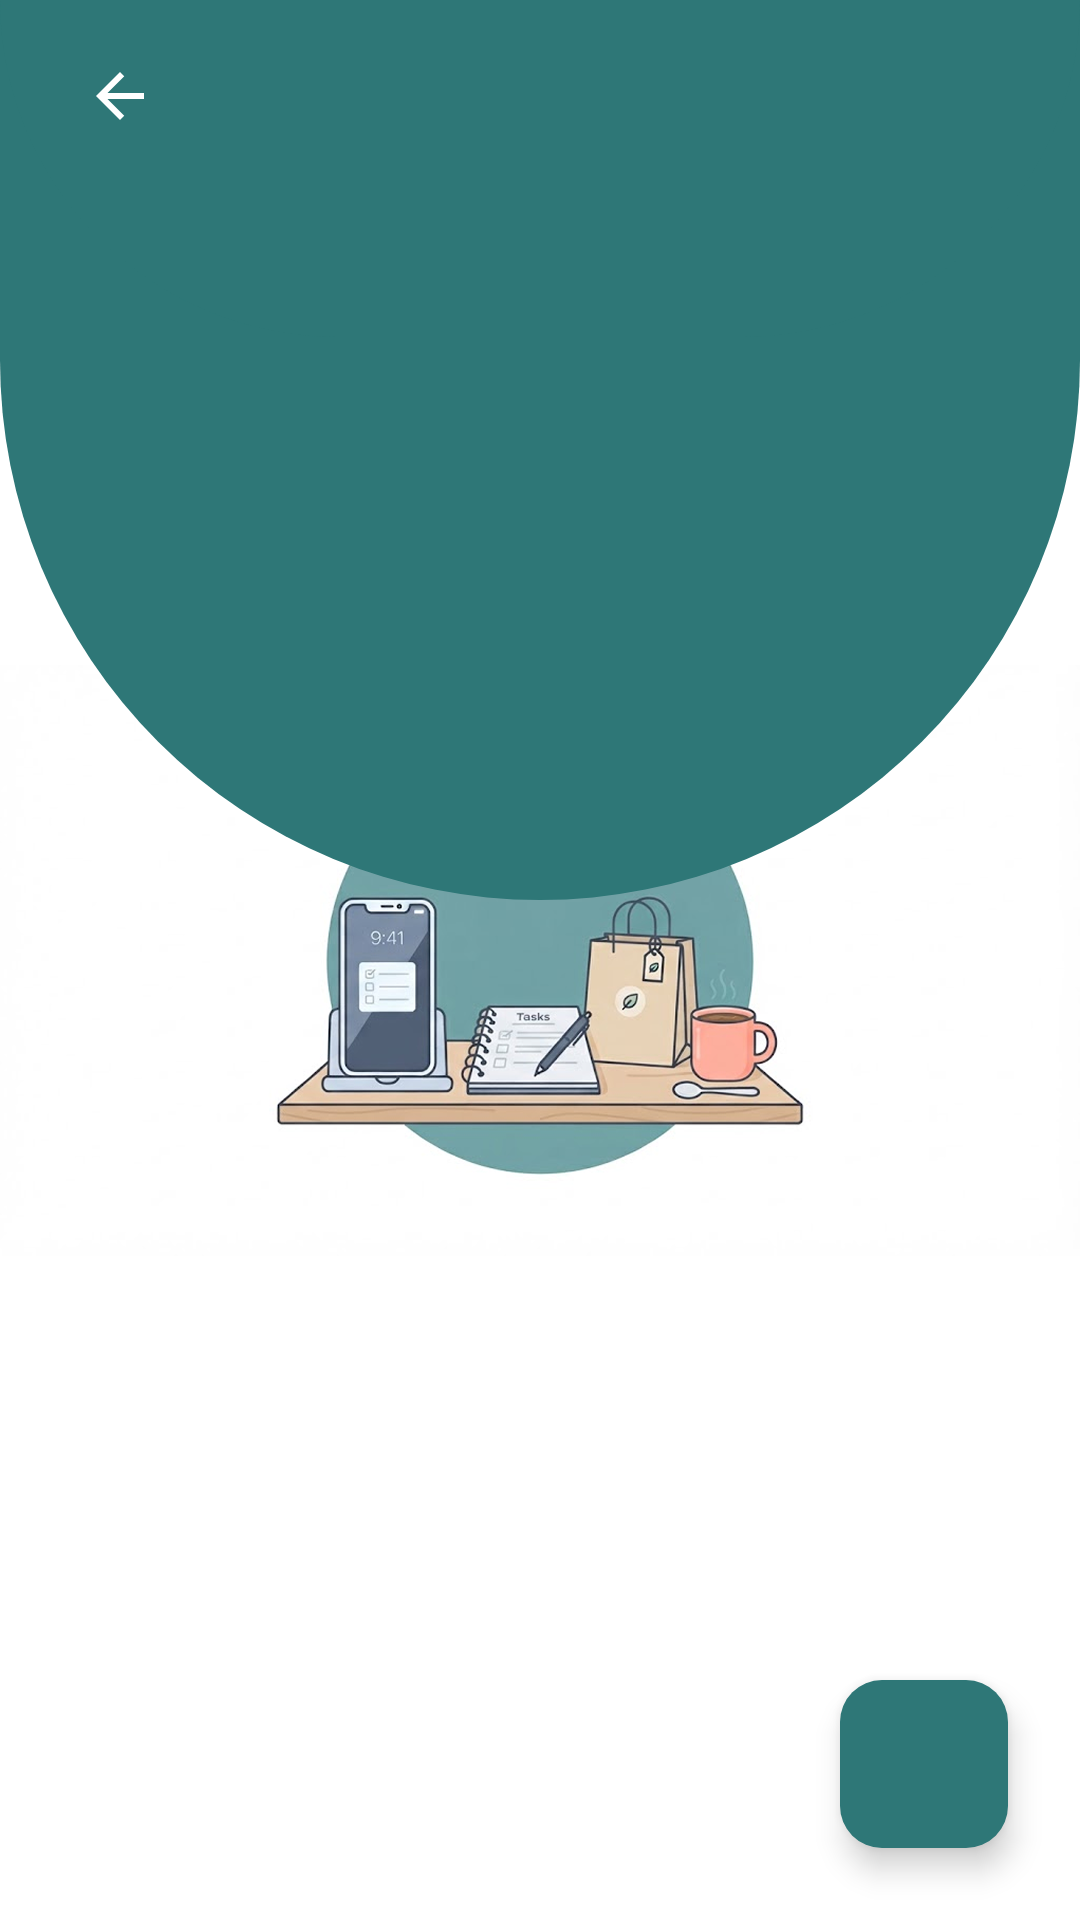

Icon click points for this 1080w x 1920h phone screenshot, format (x,y):
Back: (120,96)
